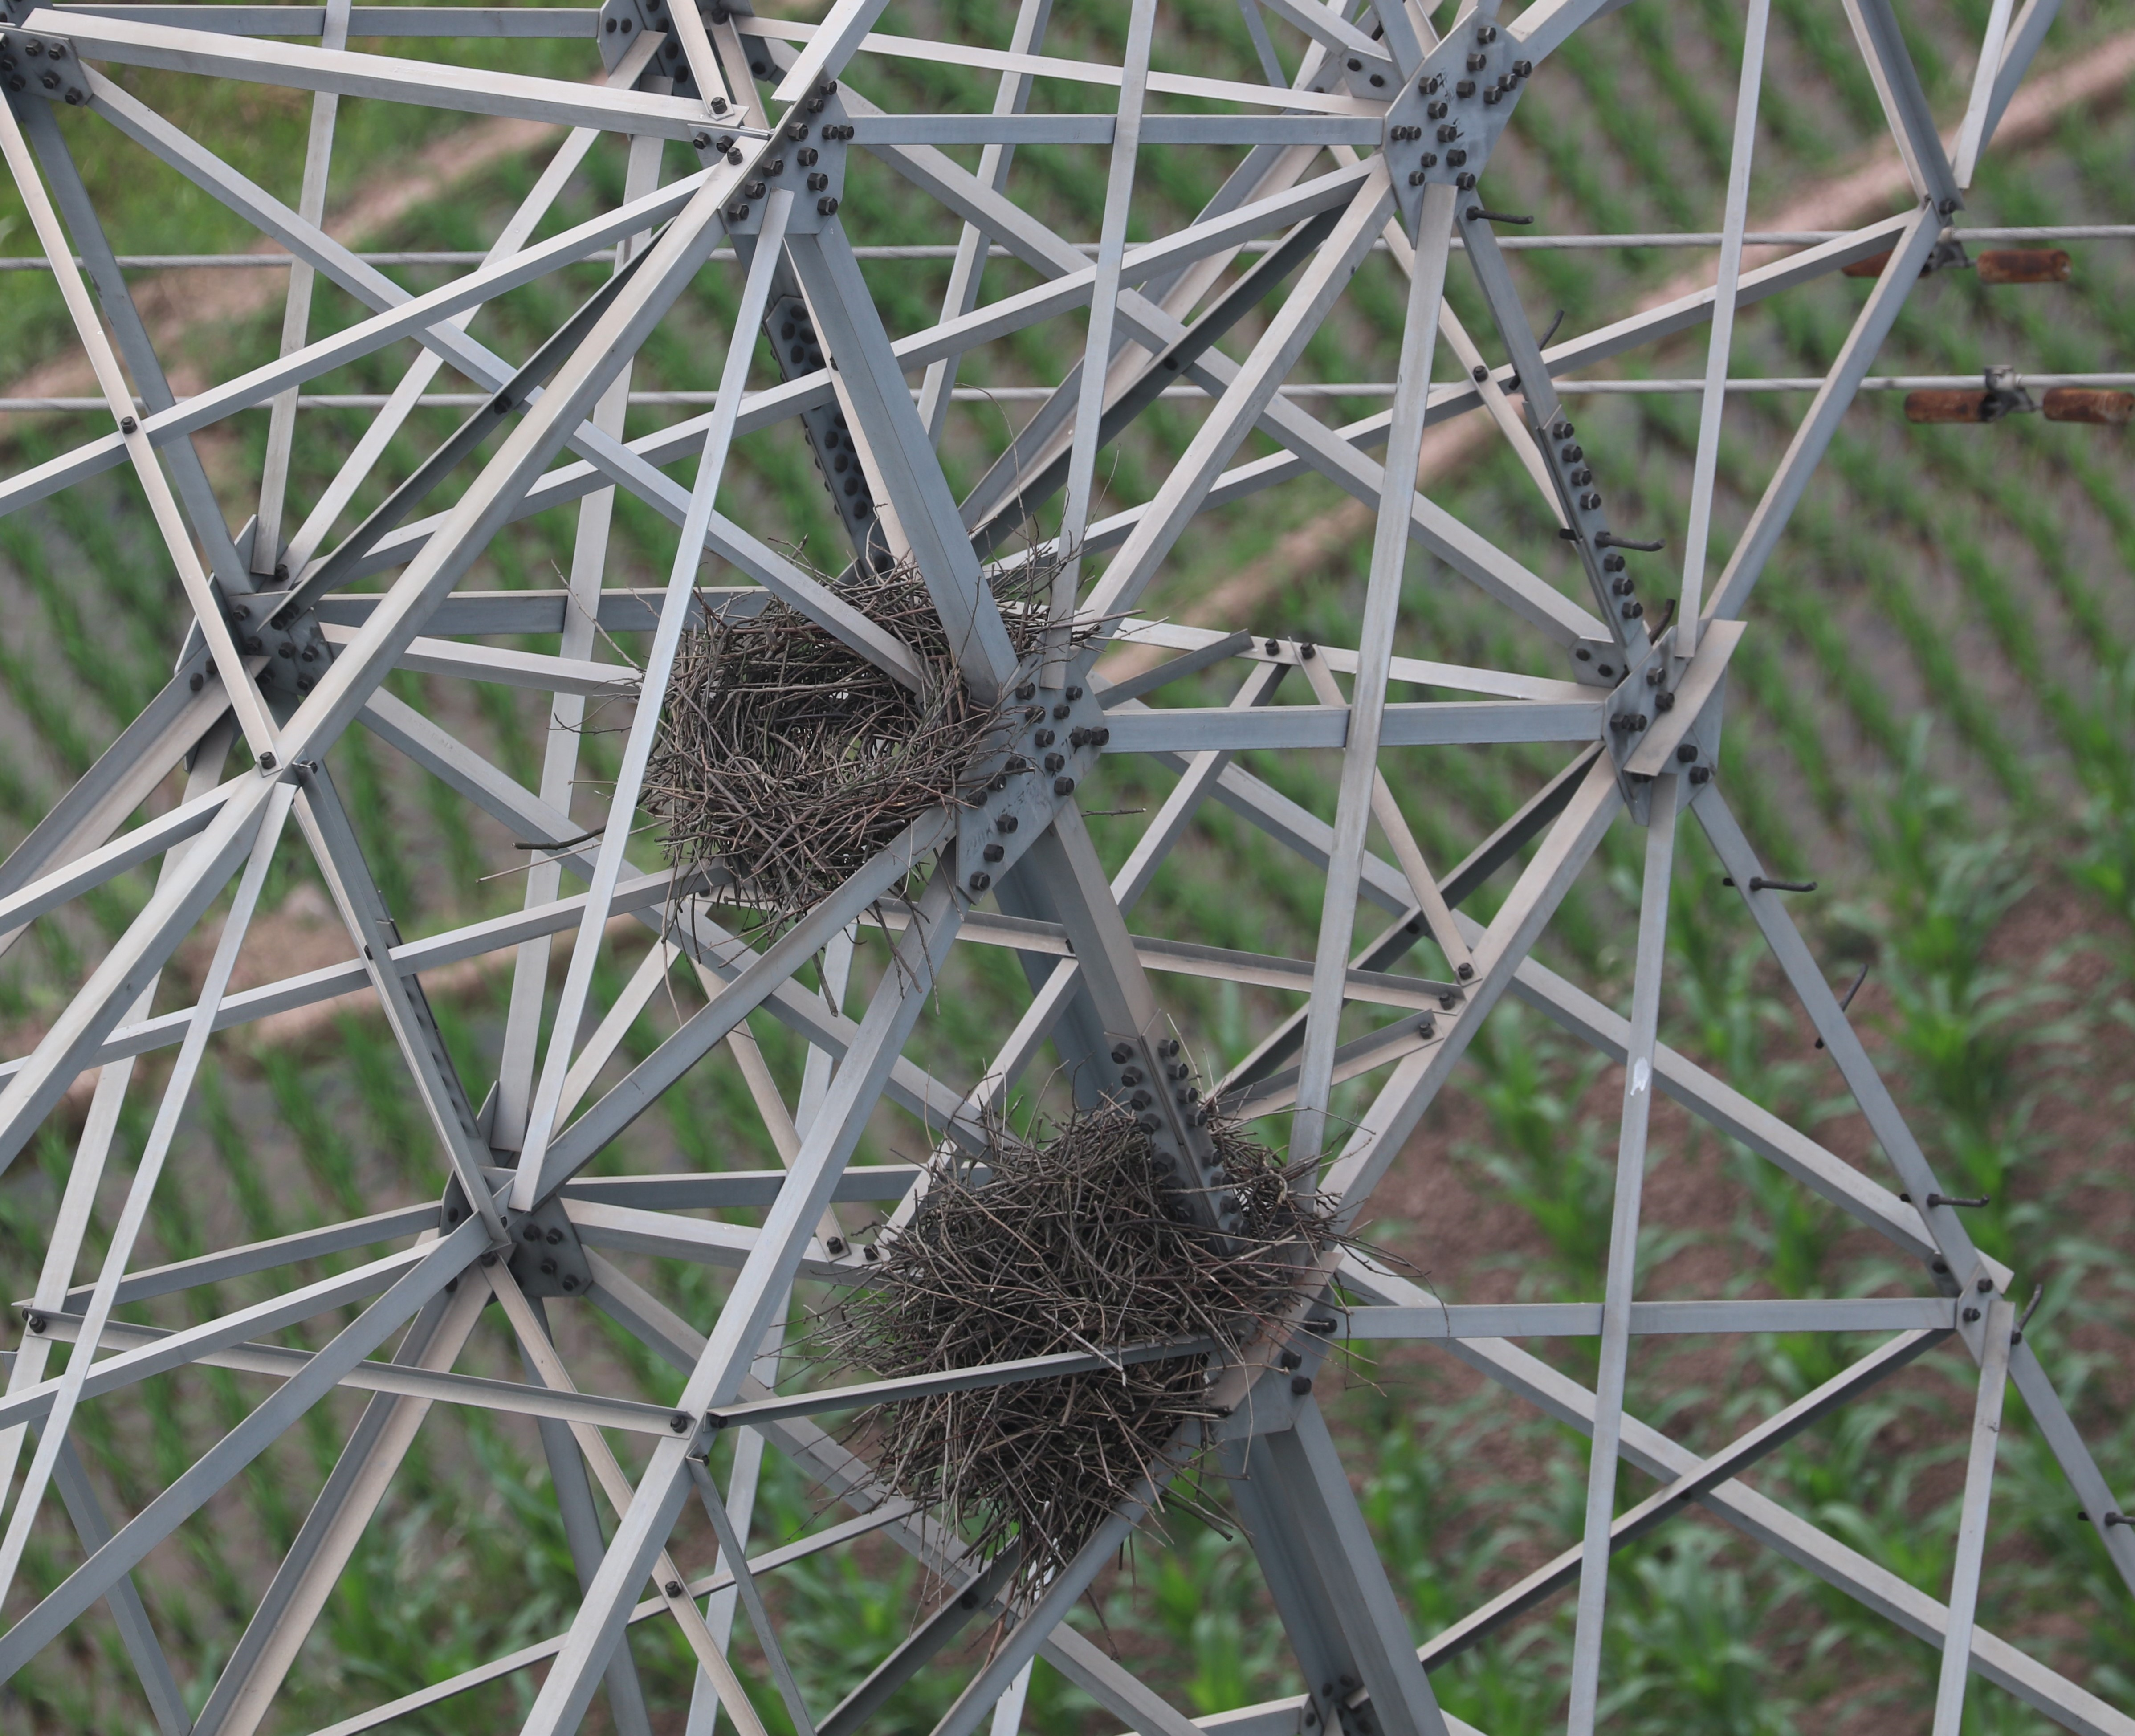niaowo: (806, 1058, 1386, 1587), (615, 523, 1099, 951)
